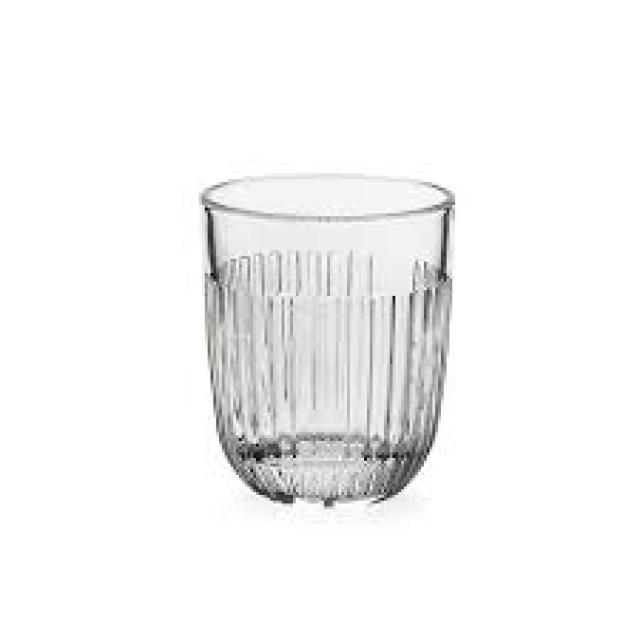glass: (202, 174, 452, 492)
